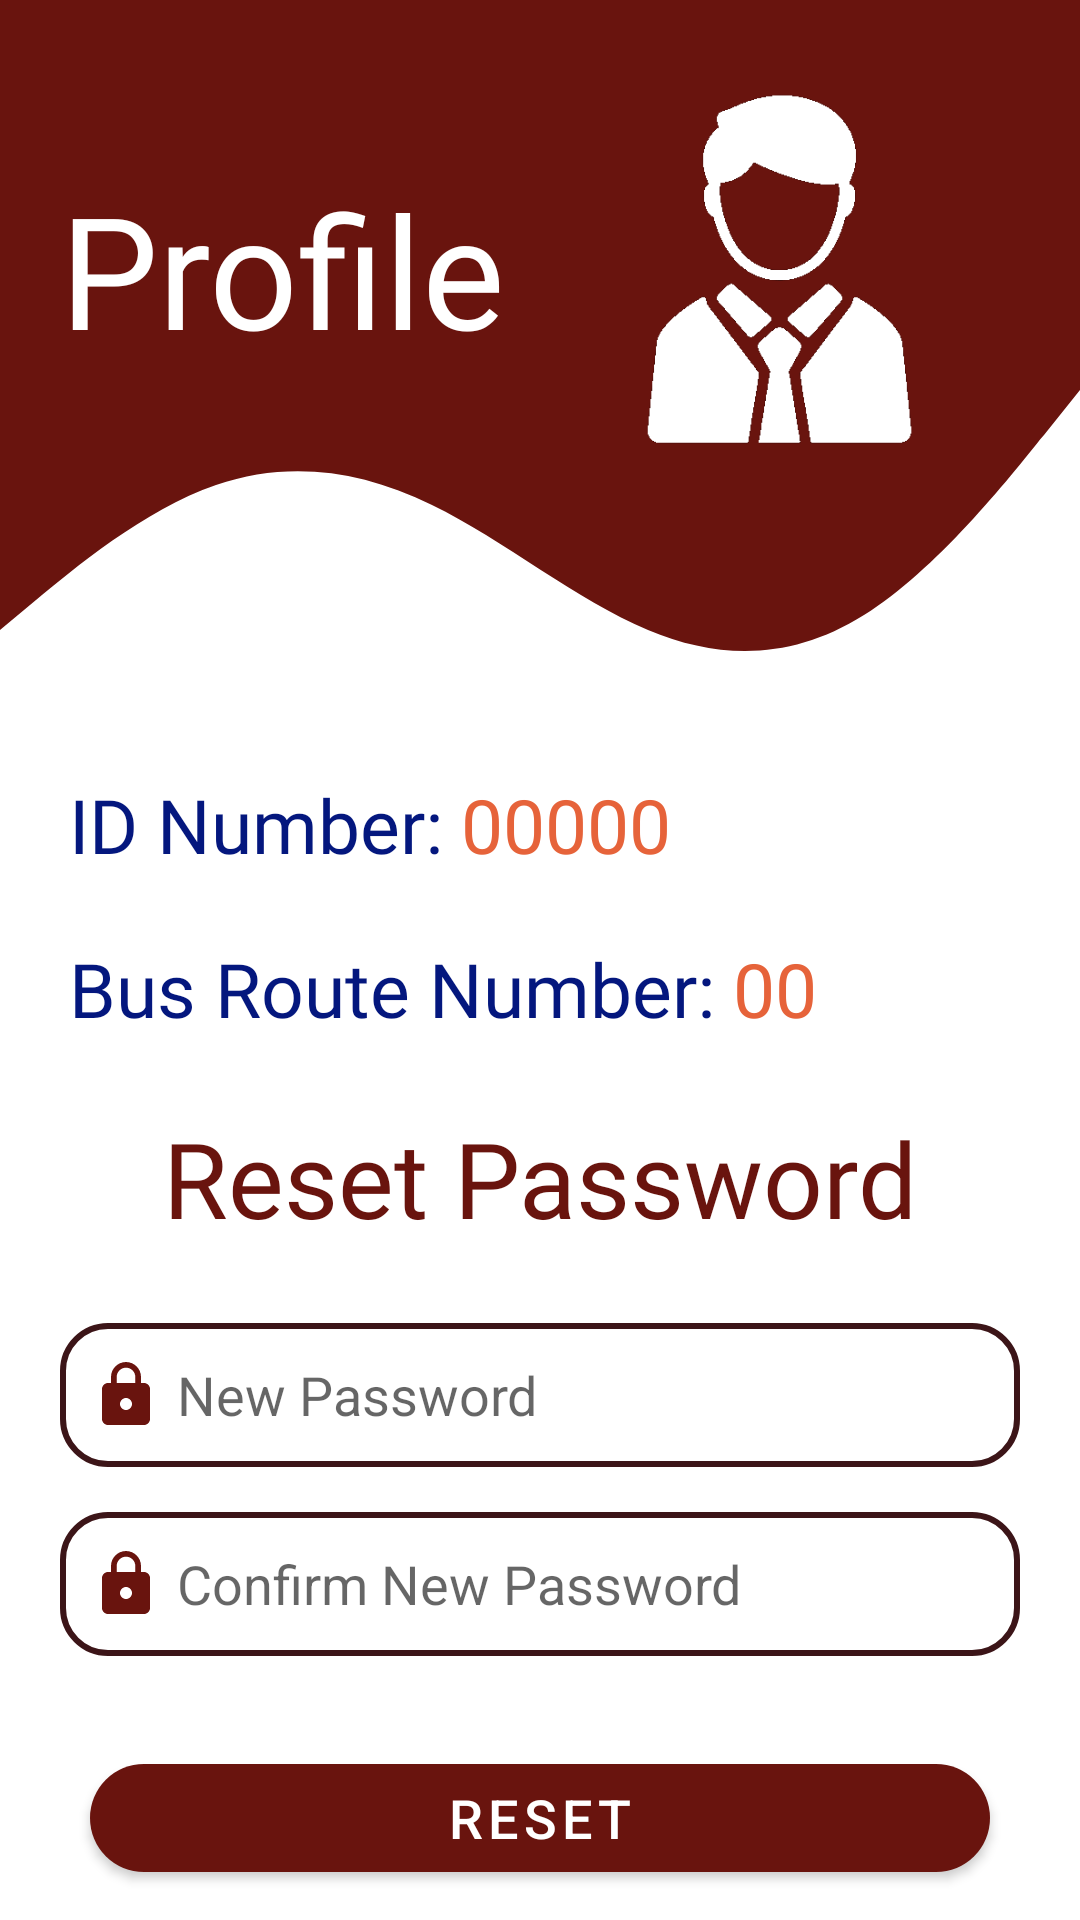

Screen size 1080 x 1920. Icon name, then its box in pixels as (x1, y1, x2, y2):
studenticon: (647, 95, 912, 443)
